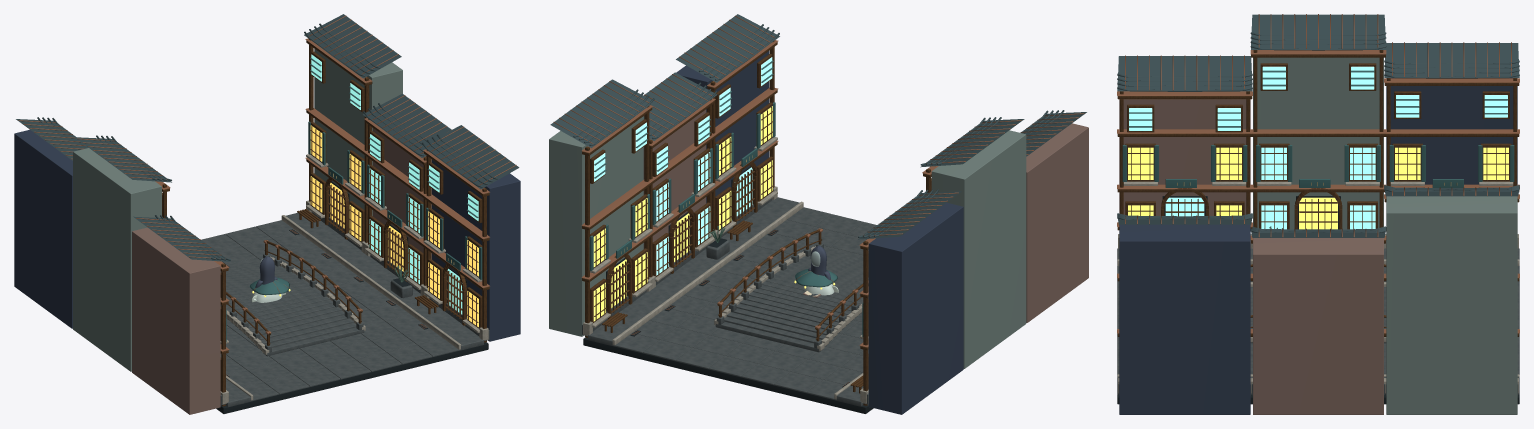
The model's file is afterhours.glb.
3 renders of one model, left to right at view 1: azimuth 30°, elevation 25°; view 2: azimuth 150°, elevation 25°; view 3: azimuth 270°, elevation 25°, orthographic. The views are drawn at different scales.
Visible parts, largest first — view 1: StreetBay__Basalt, StreetBay__Midnight_plaster, StreetBay__Weathered_jade_plaster, StreetBay__Smoked_earthen_plaster, StreetBay__Archive_oak, StreetBay__Oxidised_roof, Bridge__Basalt, StreetBay__Aged_copper, StreetBay__Limestone, StreetBay__Amber_paper_window, StreetBay__Petrol_window, StreetBay__Graphite_joints (+4 smaller); view 2: StreetBay__Weathered_jade_plaster, StreetBay__Basalt, StreetBay__Midnight_plaster, StreetBay__Archive_oak, StreetBay__Oxidised_roof, StreetBay__Smoked_earthen_plaster, Bridge__Basalt, StreetBay__Aged_copper, StreetBay__Amber_paper_window, StreetBay__Limestone, StreetBay__Petrol_window, StreetBay__Patinated_shutters (+4 smaller); view 3: StreetBay__Weathered_jade_plaster, StreetBay__Midnight_plaster, StreetBay__Smoked_earthen_plaster, StreetBay__Oxidised_roof, StreetBay__Archive_oak, StreetBay__Aged_copper, StreetBay__Petrol_window, StreetBay__Amber_paper_window, StreetBay__Patinated_shutters, StreetBay__Limestone, StreetBay__Basalt, StreetBay__Graphite_joints.
Boxes of the visible parts, x1,y1,x2,y2 form: StreetBay__Basalt: (201,212,489,407); StreetBay__Midnight_plaster: (14,129,520,341); StreetBay__Weathered_jade_plaster: (73,48,402,371); StreetBay__Smoked_earthen_plaster: (132,128,431,414); StreetBay__Archive_oak: (162,39,489,406); StreetBay__Oxidised_roof: (16,14,519,261); Bridge__Basalt: (220,254,364,356); StreetBay__Aged_copper: (18,15,516,376); StreetBay__Limestone: (220,154,488,404); StreetBay__Amber_paper_window: (310,125,478,327); StreetBay__Petrol_window: (311,54,478,314); StreetBay__Graphite_joints: (216,181,488,413); StreetBay__Weathered_jade_plaster: (549,116,1026,368); StreetBay__Basalt: (582,197,876,406); StreetBay__Midnight_plaster: (676,51,963,414); StreetBay__Archive_oak: (582,41,931,405); StreetBay__Oxidised_roof: (550,14,1086,239); StreetBay__Smoked_earthen_plaster: (643,109,1088,322); Bridge__Basalt: (715,243,868,352); StreetBay__Aged_copper: (553,15,1084,386); StreetBay__Amber_paper_window: (593,106,772,321); StreetBay__Limestone: (583,137,868,403); StreetBay__Petrol_window: (594,57,772,275); StreetBay__Patinated_shutters: (589,60,863,336); StreetBay__Weathered_jade_plaster: (1253,57,1517,414); StreetBay__Midnight_plaster: (1119,78,1517,414); StreetBay__Smoked_earthen_plaster: (1119,99,1383,414); StreetBay__Oxidised_roof: (1117,14,1519,237); StreetBay__Archive_oak: (1117,50,1519,336); StreetBay__Aged_copper: (1117,14,1519,333); StreetBay__Petrol_window: (1129,66,1507,229); StreetBay__Amber_paper_window: (1128,147,1508,229); StreetBay__Patinated_shutters: (1122,70,1514,187); StreetBay__Limestone: (1117,181,1519,393); StreetBay__Basalt: (1117,248,1519,394); StreetBay__Graphite_joints: (1117,196,1519,404).
Bounding box in the file's own units: 23.74 × 14.11 × 22.03.
21 materials, 3 textured.
